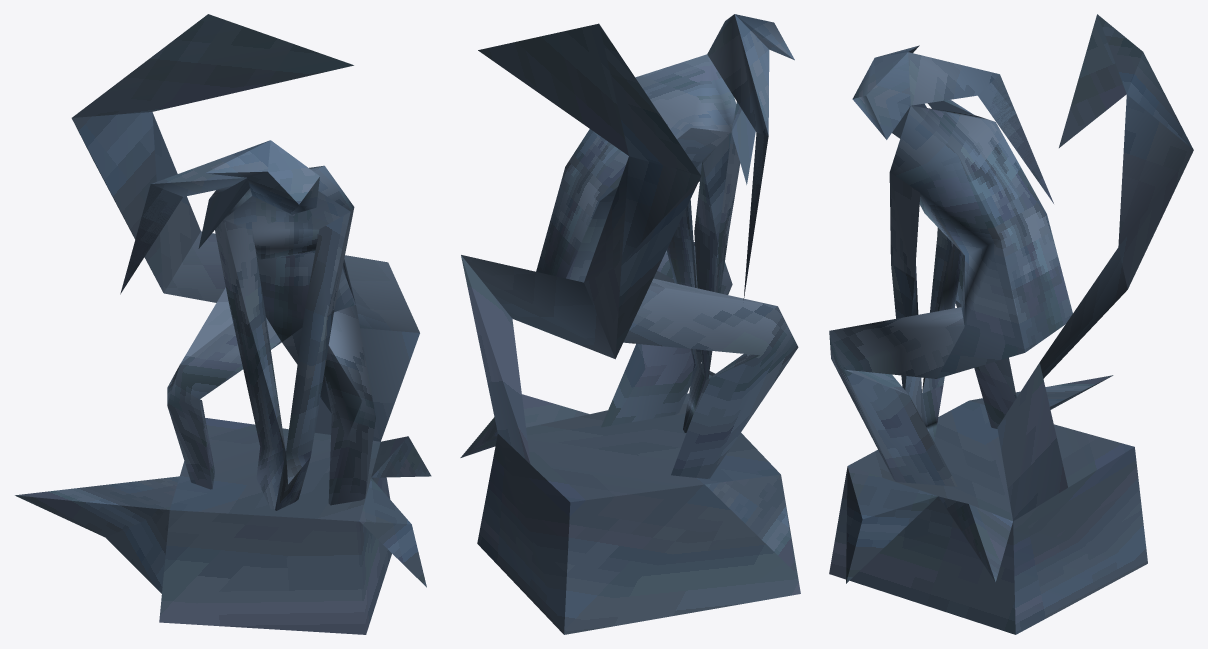
The model's file is frn_all_decorative_lg_s1_l2.fbx.
3 views of the same model, side by side, from view 1: azimuth 30°, elevation 25°; view 2: azimuth 150°, elevation 25°; view 3: azimuth 270°, elevation 25° (orthographic). The views are drawn at different scales.
Visible parts, largest first — view 1: mesh_node; view 2: mesh_node; view 3: mesh_node.
Part boxes in pixels (x1=…): mesh_node: x1=15, y1=14, x2=431, y2=634; mesh_node: x1=460, y1=14, x2=800, y2=634; mesh_node: x1=829, y1=14, x2=1193, y2=634.
Size of the model in its own units: 1.07 by 1.51 by 0.9145.
1 material, 1 textured.
